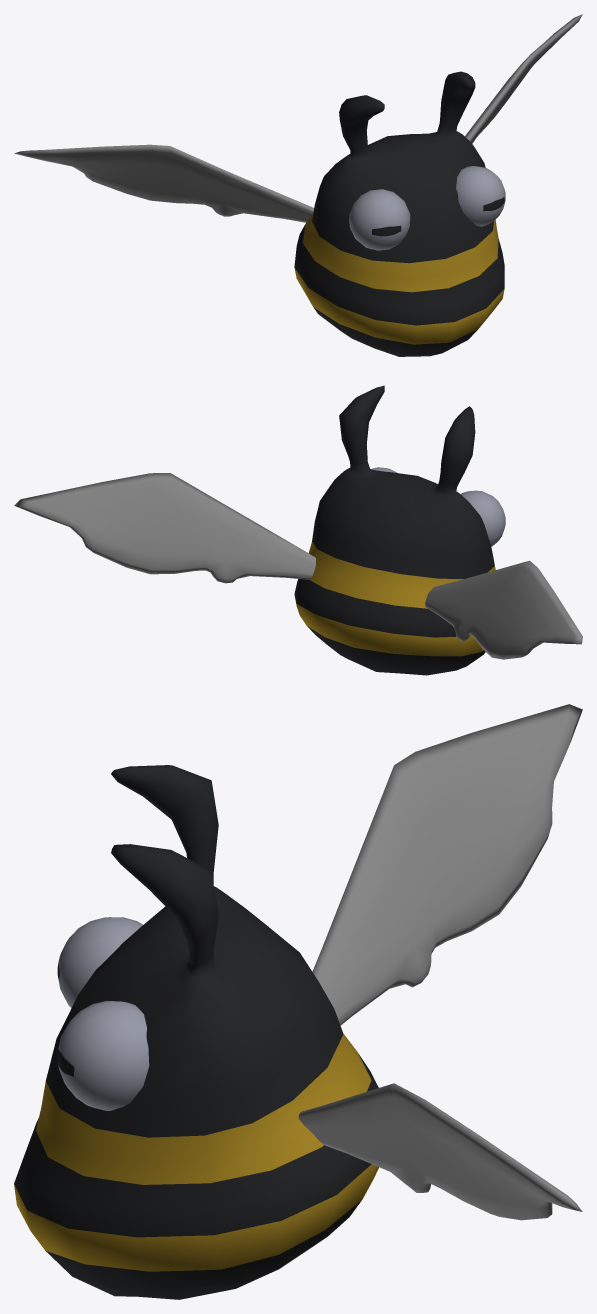
File: cc0-armabee-lod0.glb
3 views of the same model, one above another, from view 1: azimuth 30°, elevation 25°; view 2: azimuth 150°, elevation 25°; view 3: azimuth 270°, elevation 25° (orthographic). The views are drawn at different scales.
Parts seen in each view (by area): view 1: part_12; view 2: part_12; view 3: part_12.
Boxes of the visible parts, x1=… form: part_12: x1=14, y1=14, x2=582, y2=356; part_12: x1=14, y1=385, x2=582, y2=675; part_12: x1=14, y1=704, x2=582, y2=1299.
Size of the model in its own units: 4.3 by 1.89 by 2.06.
Materials: 1 (1 with a texture image).
